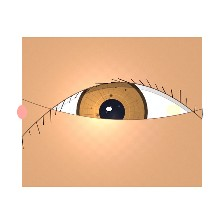pinguecula_lesion: (159, 98, 188, 122)
